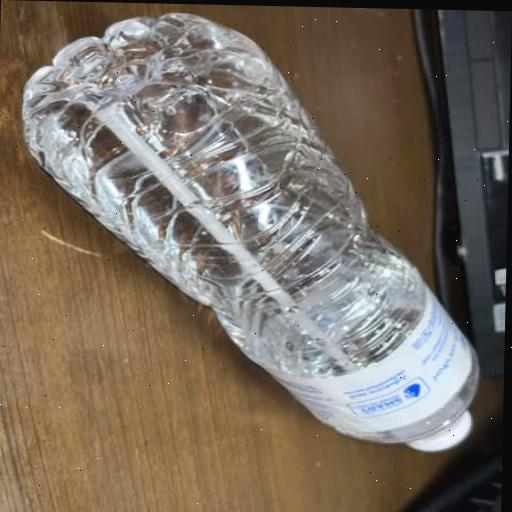bottle: (9, 8, 495, 467)
